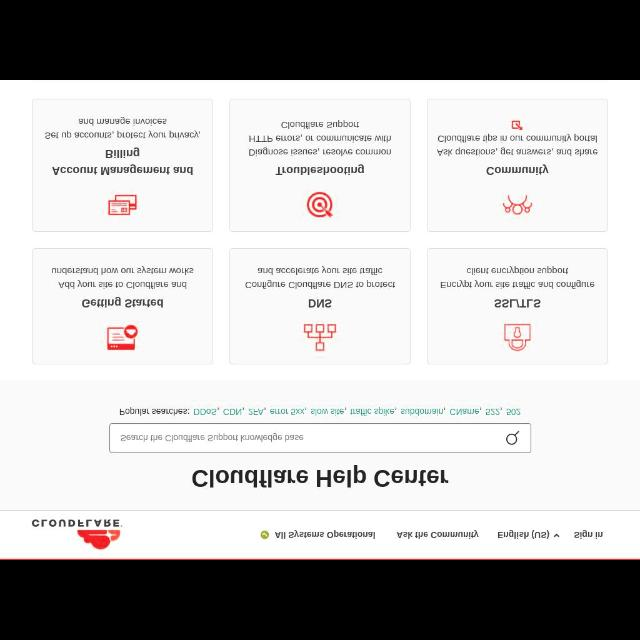icon: (506, 424, 524, 448), (555, 532, 563, 540)
image: (30, 516, 126, 552), (302, 319, 340, 356), (102, 187, 142, 219), (304, 192, 340, 224), (498, 321, 532, 351), (105, 324, 141, 352), (502, 191, 534, 217)
input: (110, 420, 532, 454)
spinner: (498, 522, 560, 544)
text: (192, 466, 448, 494), (246, 118, 392, 160), (441, 260, 597, 290), (50, 261, 196, 293), (432, 137, 600, 163), (42, 113, 204, 139), (240, 261, 398, 287), (120, 406, 522, 416), (53, 153, 195, 175), (274, 526, 380, 544), (121, 434, 302, 444), (274, 162, 368, 178), (396, 526, 480, 542), (81, 296, 165, 310), (487, 165, 555, 178), (493, 298, 542, 312), (571, 526, 605, 544), (494, 530, 554, 540), (311, 296, 334, 310)
toolbar: (1, 512, 640, 558)
